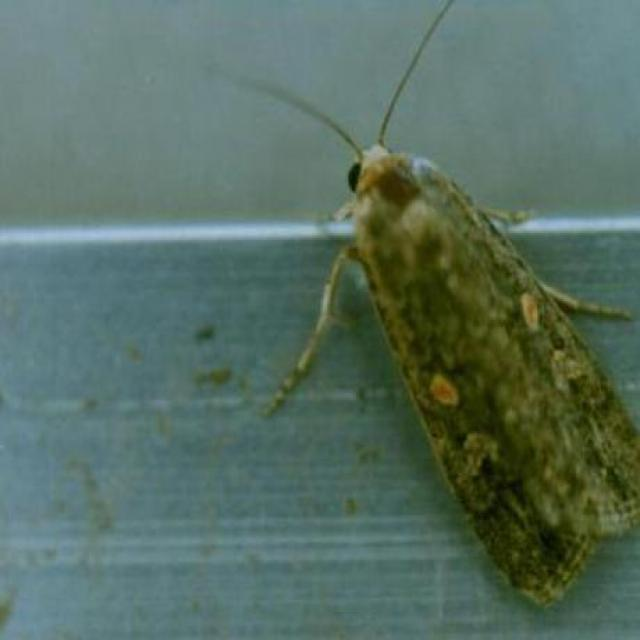BeetArmyWorm-Adult-: (221, 54, 638, 614)
